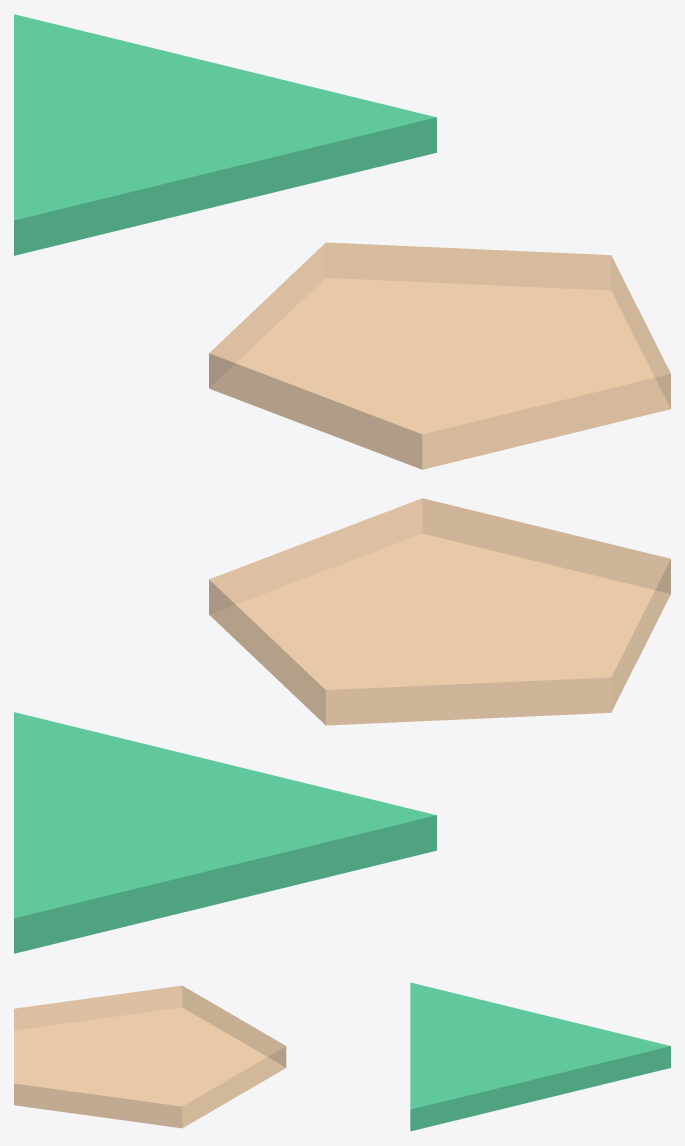
File: fiore_step3.glb
3 renders of one model, top to bottom at view 1: azimuth 30°, elevation 25°; view 2: azimuth 150°, elevation 25°; view 3: azimuth 270°, elevation 25°, orthographic. The views are drawn at different scales.
Visible parts, largest first — view 1: pentagono, triangolo_equilatero; view 2: pentagono, triangolo_equilatero; view 3: pentagono, triangolo_equilatero.
Boxes of the visible parts, <box> form: pentagono: <box>209,242,670,469</box>; triangolo_equilatero: <box>14,14,436,255</box>; pentagono: <box>209,498,670,725</box>; triangolo_equilatero: <box>14,712,436,953</box>; pentagono: <box>14,985,286,1128</box>; triangolo_equilatero: <box>410,982,670,1131</box>.
Size of the model in its own units: 1 by 0.08 by 2.18.
